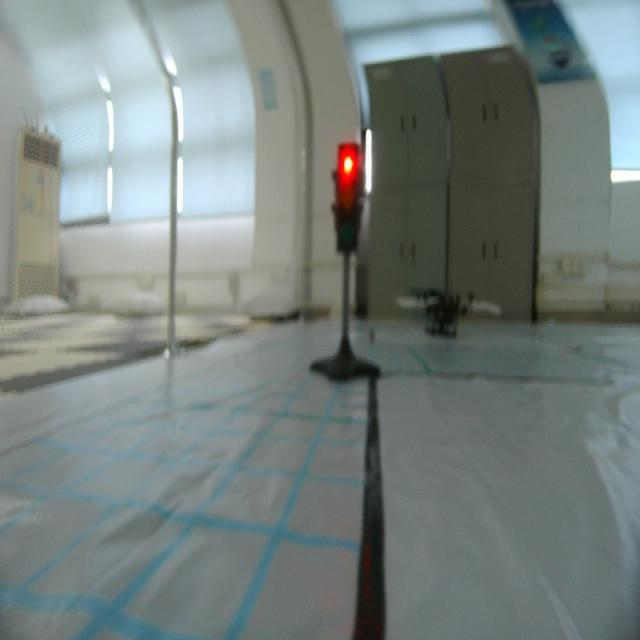red: (329, 134, 363, 264)
